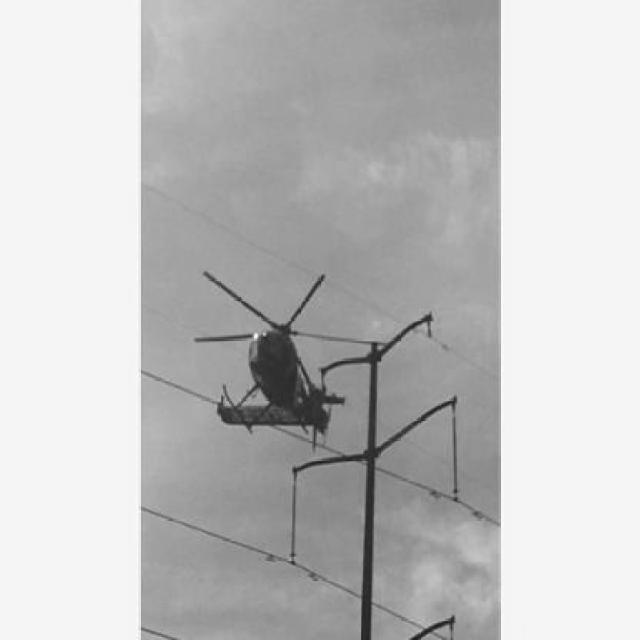helikopter: (183, 258, 389, 457)
